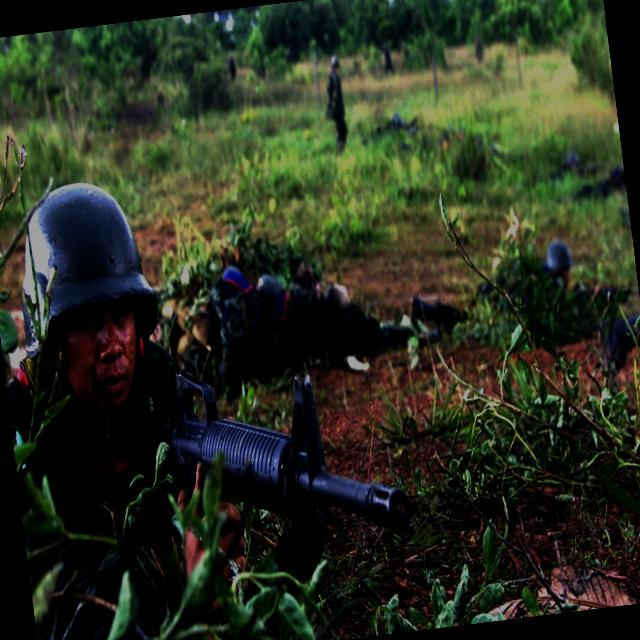m16: (76, 261, 467, 640)
